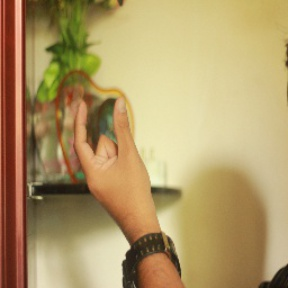U: (64, 91, 163, 211)
